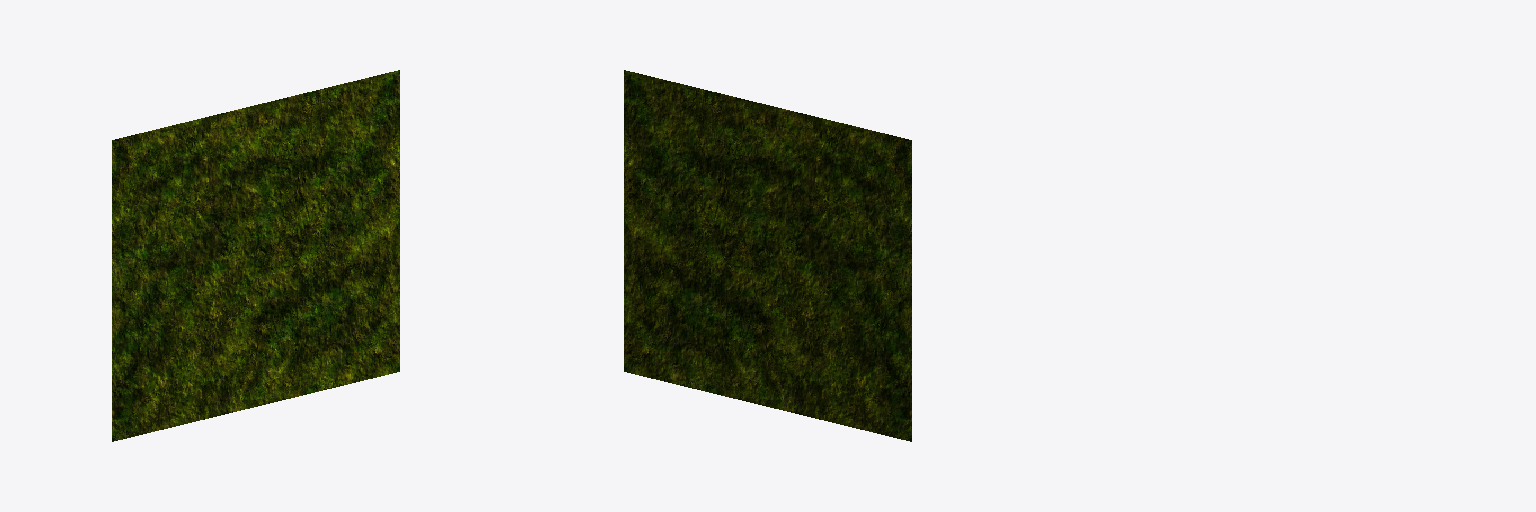
3 renders of one model, left to right at view 1: azimuth 30°, elevation 25°; view 2: azimuth 150°, elevation 25°; view 3: azimuth 270°, elevation 25°, orthographic.
Bounding box in the file's own units: 2 × 2 × 0.
Materials: 1 (1 with a texture image).